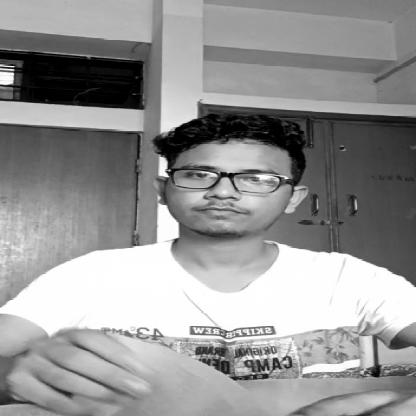Normal: (142, 113, 309, 242)
